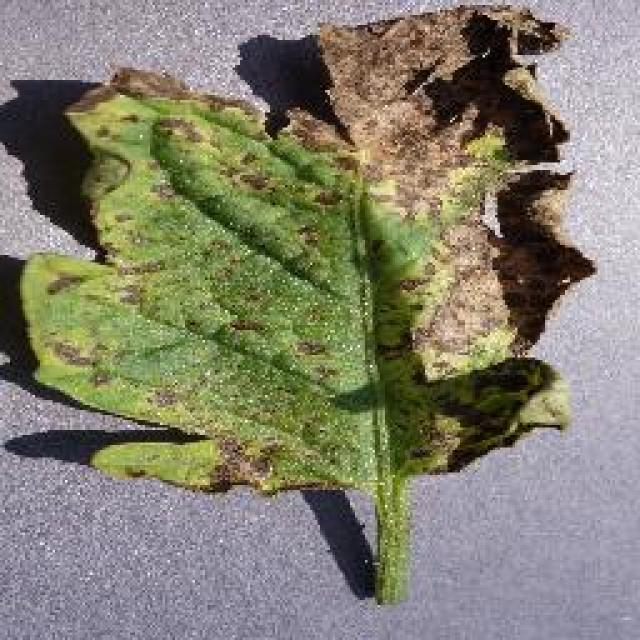Tomato___Septoria_leaf_spot: (20, 5, 592, 602)
